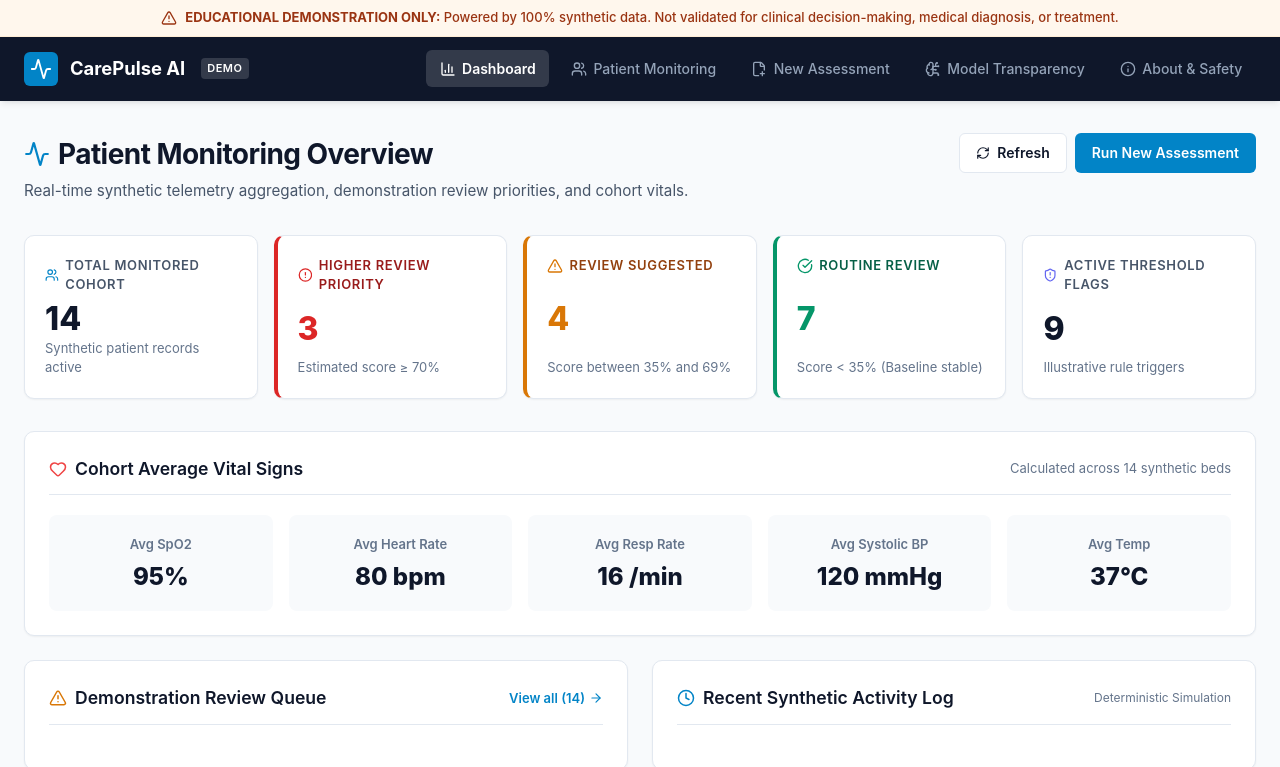
Scenario: Navigation › 10. Navigation bar links navigate across application views
Expected: the text "CarePulse AI" is shown, [70,55,185,82]
Expected: the text "EDUCATIONAL DEMONSTRATION ONLY:" is shown, [185,9,440,25]
// Navigate to About & Safety
Step 1. Click the link "About & Safety" → (1181, 68), box [1120,60,1242,77]
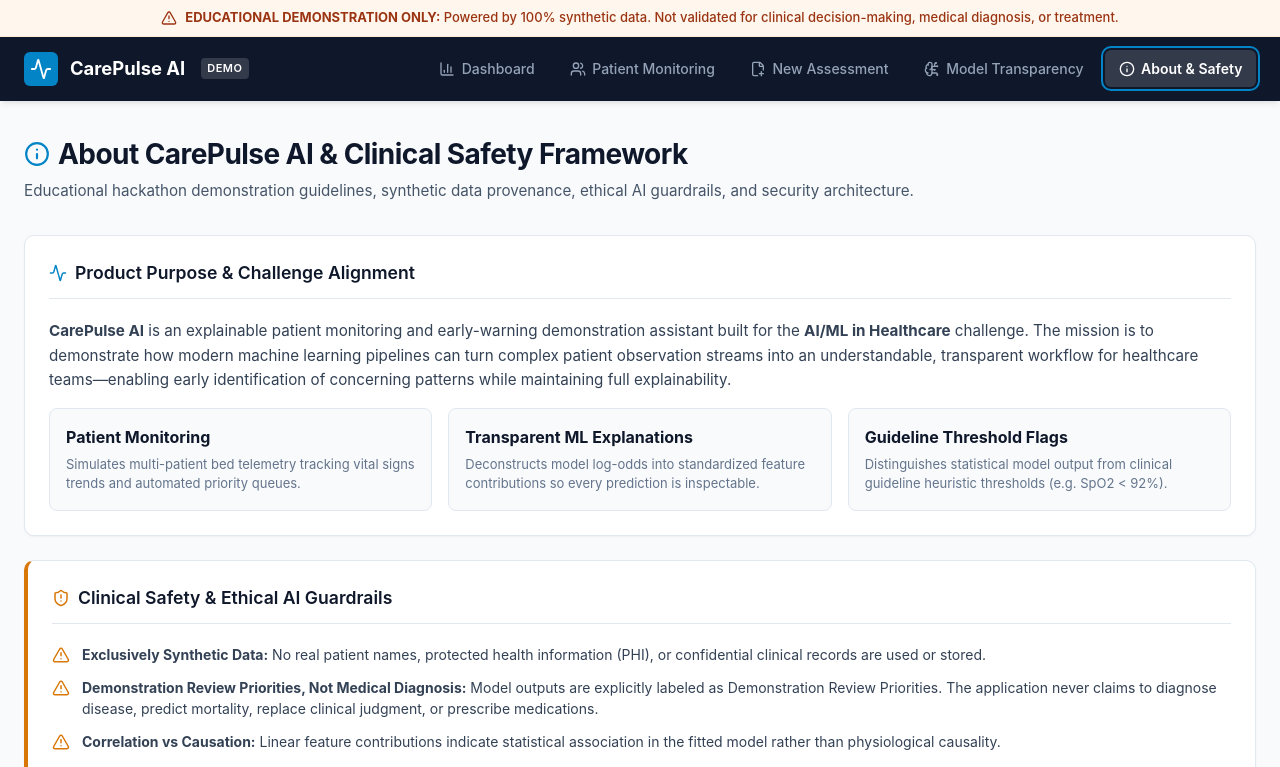
Expected: the heading "About CarePulse AI & Clinical Safety Framework" is shown, [24,136,688,170]
// Navigate to New Assessment
Step 2. Click the link "New Assessment" → (819, 68), box [750,60,888,77]
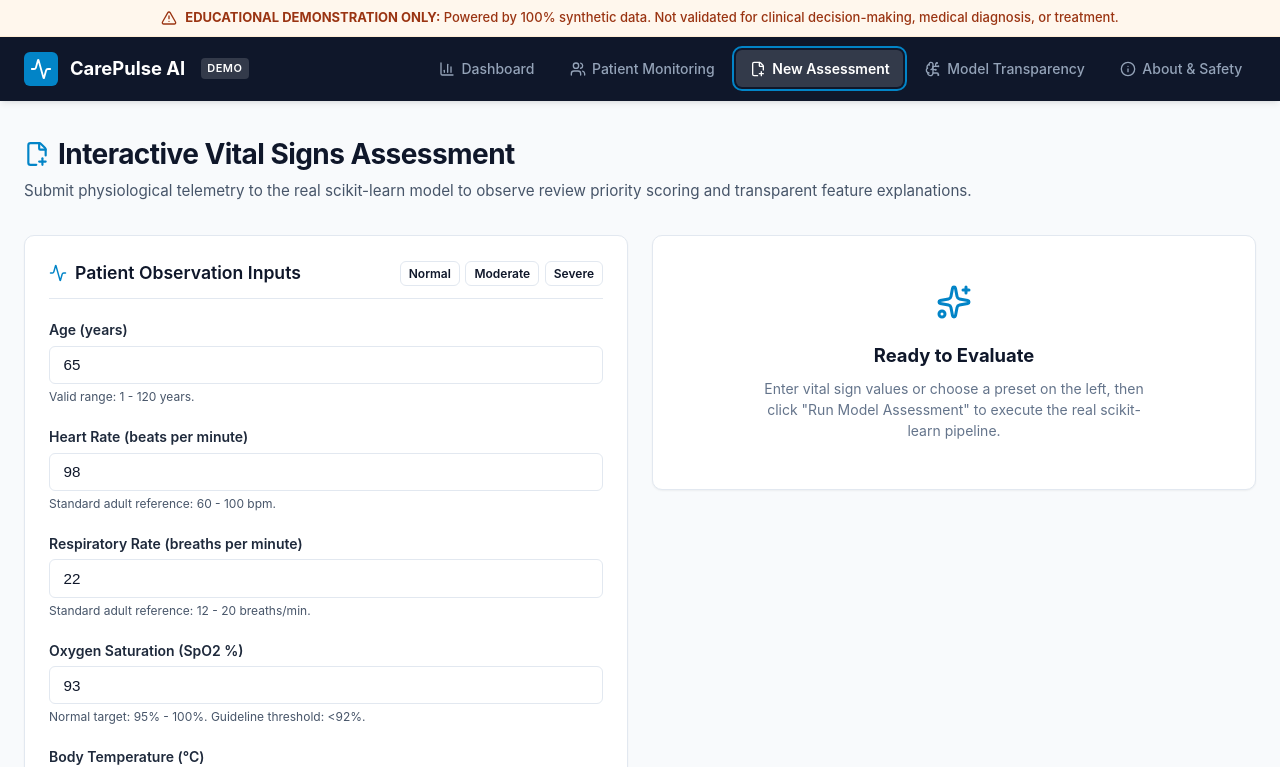
Expected: the heading "Interactive Vital Signs Assessment" is shown, [24,136,515,170]
